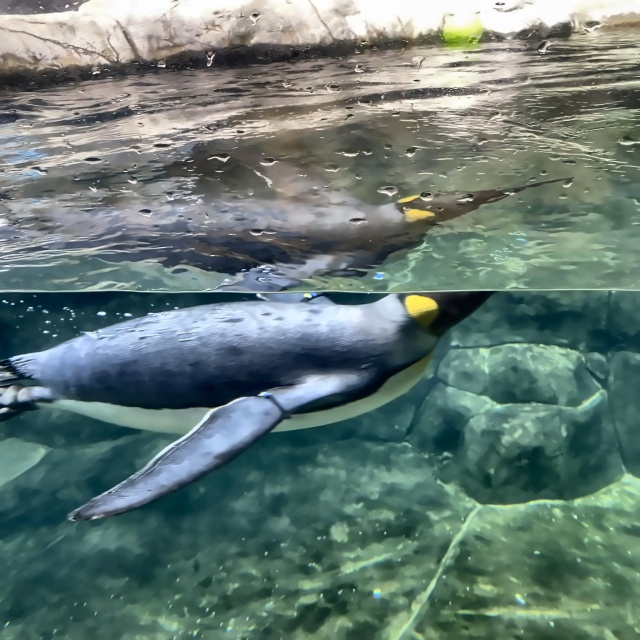penguin: (0, 267, 501, 525)
